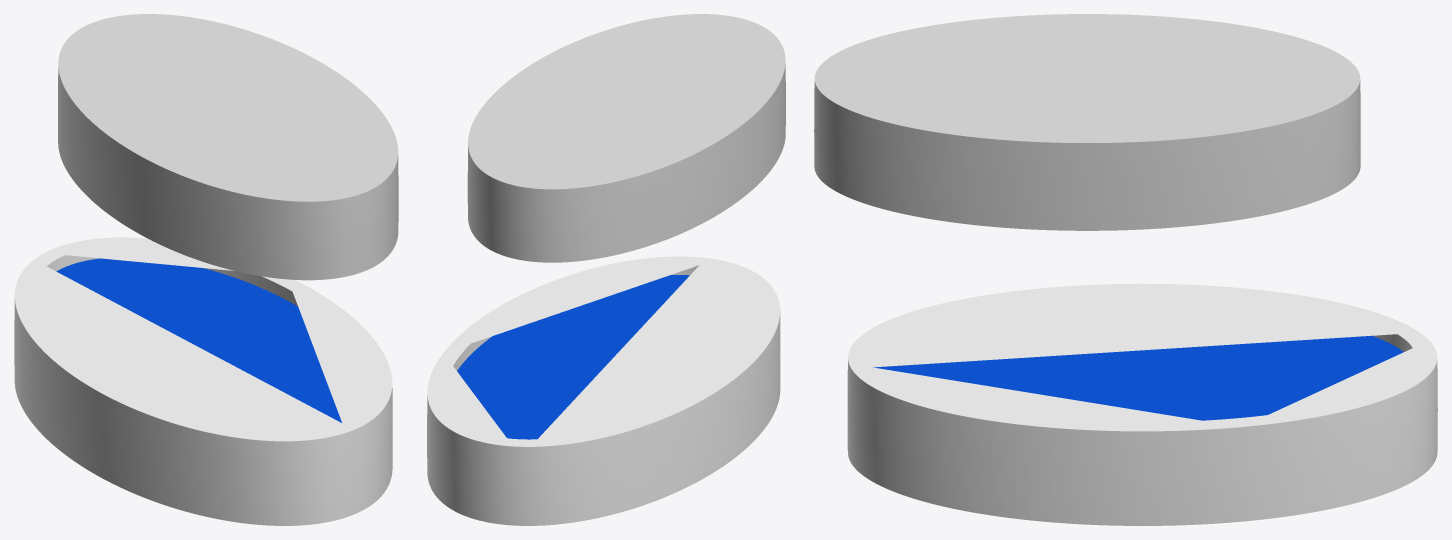
File: NameBox.fbx
The picture shows the model from 3 angles, left to right: view 1: azimuth 30°, elevation 25°; view 2: azimuth 150°, elevation 25°; view 3: azimuth 270°, elevation 25°; orthographic projection. The views are drawn at different scales.
Visible parts, largest first — view 1: Cylinder.001, Cylinder; view 2: Cylinder.001, Cylinder; view 3: Cylinder.001, Cylinder.
Part boxes in pixels (x1,y1,x2,y2): Cylinder.001: (14,237,392,525); Cylinder: (58,14,398,280); Cylinder.001: (427,256,780,525); Cylinder: (467,14,785,262); Cylinder.001: (847,283,1437,525); Cylinder: (814,14,1360,230).
Bounding box in the file's own units: 318 × 374 × 566.
